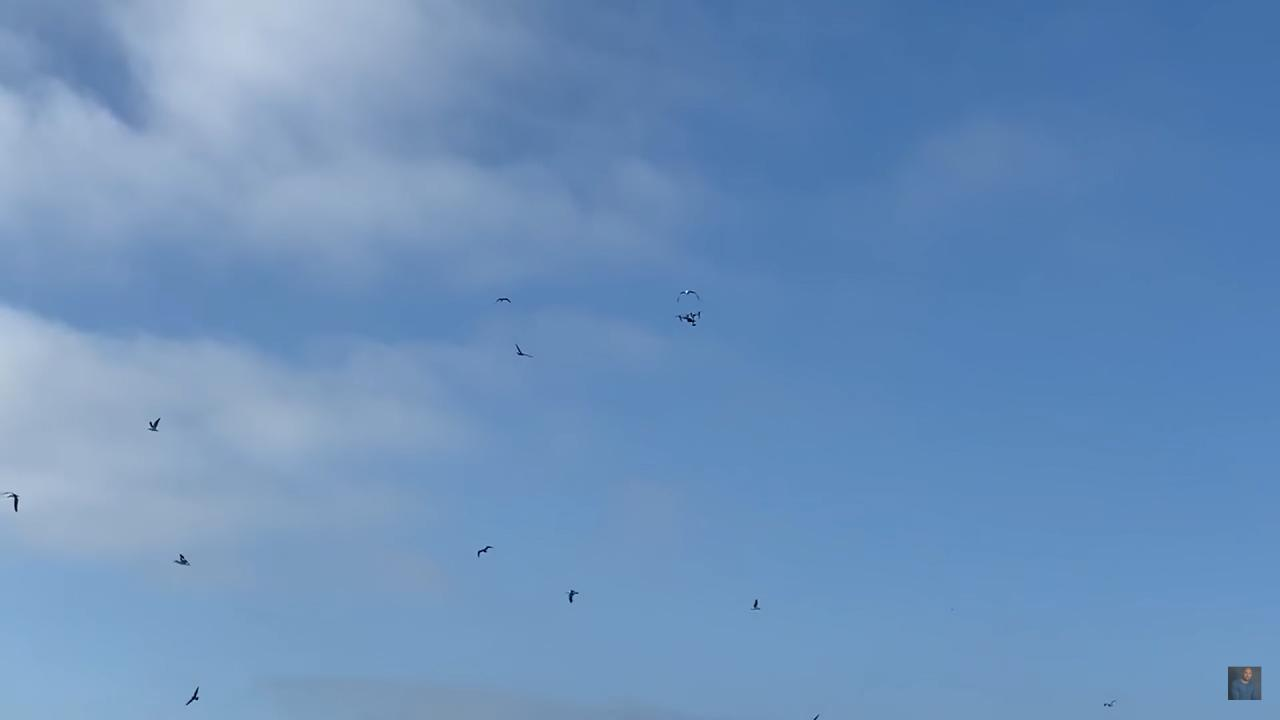Bird: (178, 680, 210, 712), (166, 545, 200, 575), (670, 281, 705, 307), (0, 485, 28, 517), (506, 337, 539, 364), (468, 538, 500, 563), (558, 583, 586, 609), (139, 414, 169, 438), (743, 592, 770, 618), (490, 291, 518, 310)
Drone: (668, 303, 712, 335)
